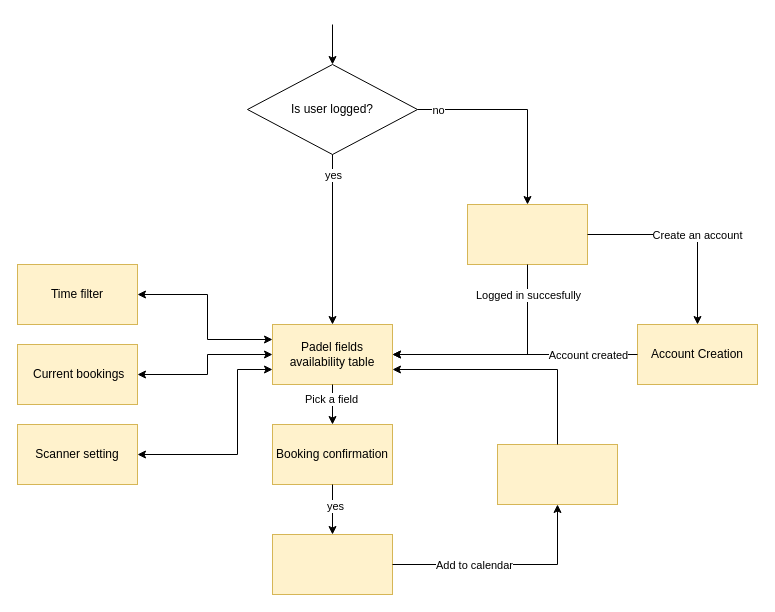
Image size: 775x612. Some labels were removed from this diagram. Here are the shapes that lost their labels. From the top down, the centre of each, then its label:
point 527,234: Login
point 557,474: Calendar
point 332,564: Booking validation
